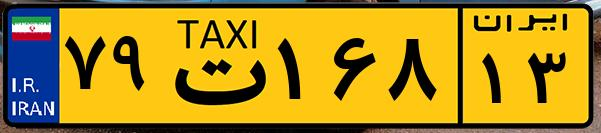1: (270, 28, 330, 110), (475, 38, 525, 113)
3: (525, 38, 570, 115)
6: (330, 28, 385, 110)
7: (57, 26, 110, 100)
8: (385, 28, 445, 110)
9: (110, 28, 158, 98)
ت: (158, 12, 270, 120)
